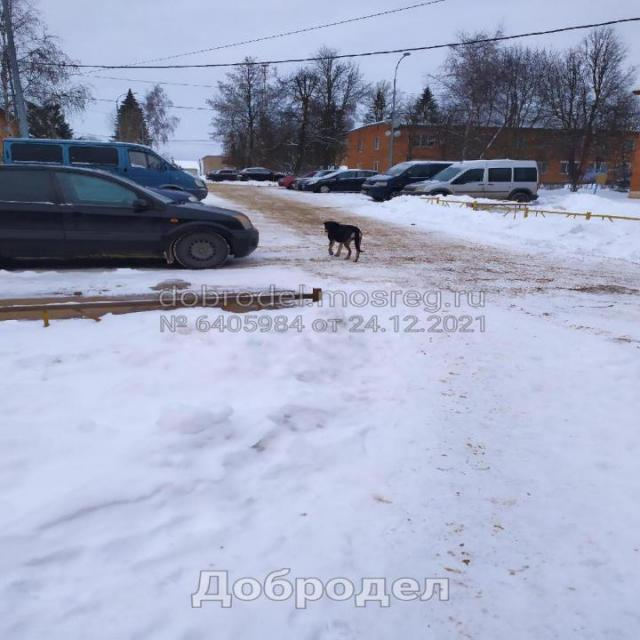dog: (317, 217, 367, 266)
